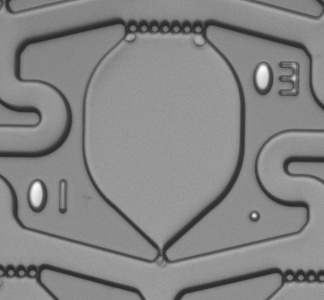AptNum: (249, 57, 302, 101)
Marker: (246, 208, 263, 223)
StNum: (26, 176, 70, 220)
